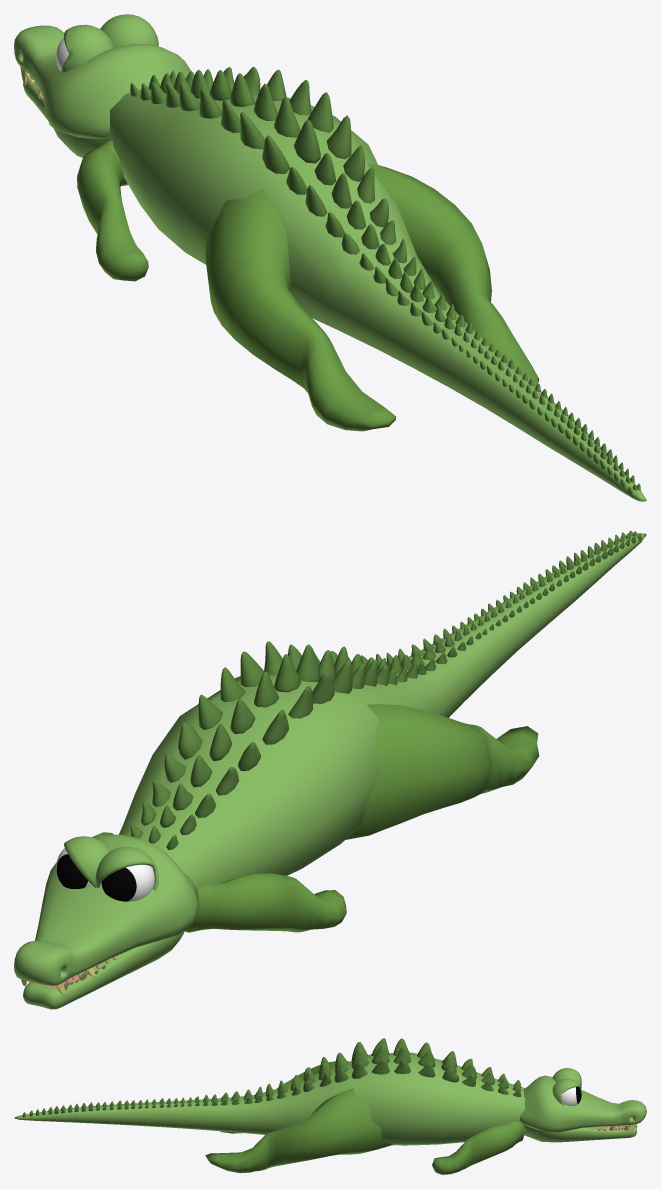
The model's file is CROC_MESH_NO_ARMATURE.fbx.
The picture shows the model from 3 angles, top to bottom: view 1: azimuth 30°, elevation 25°; view 2: azimuth 150°, elevation 25°; view 3: azimuth 270°, elevation 25°; orthographic projection. The views are drawn at different scales.
Parts seen in each view (by area): view 1: Cube.002; view 2: Cube.002; view 3: Cube.002.
Part boxes in pixels (box(x1,y1,x2,y2)): Cube.002: box(14, 14, 646, 501); Cube.002: box(14, 530, 646, 1009); Cube.002: box(14, 1038, 646, 1174).
Size of the model in its own units: 966 by 760 by 4111.
